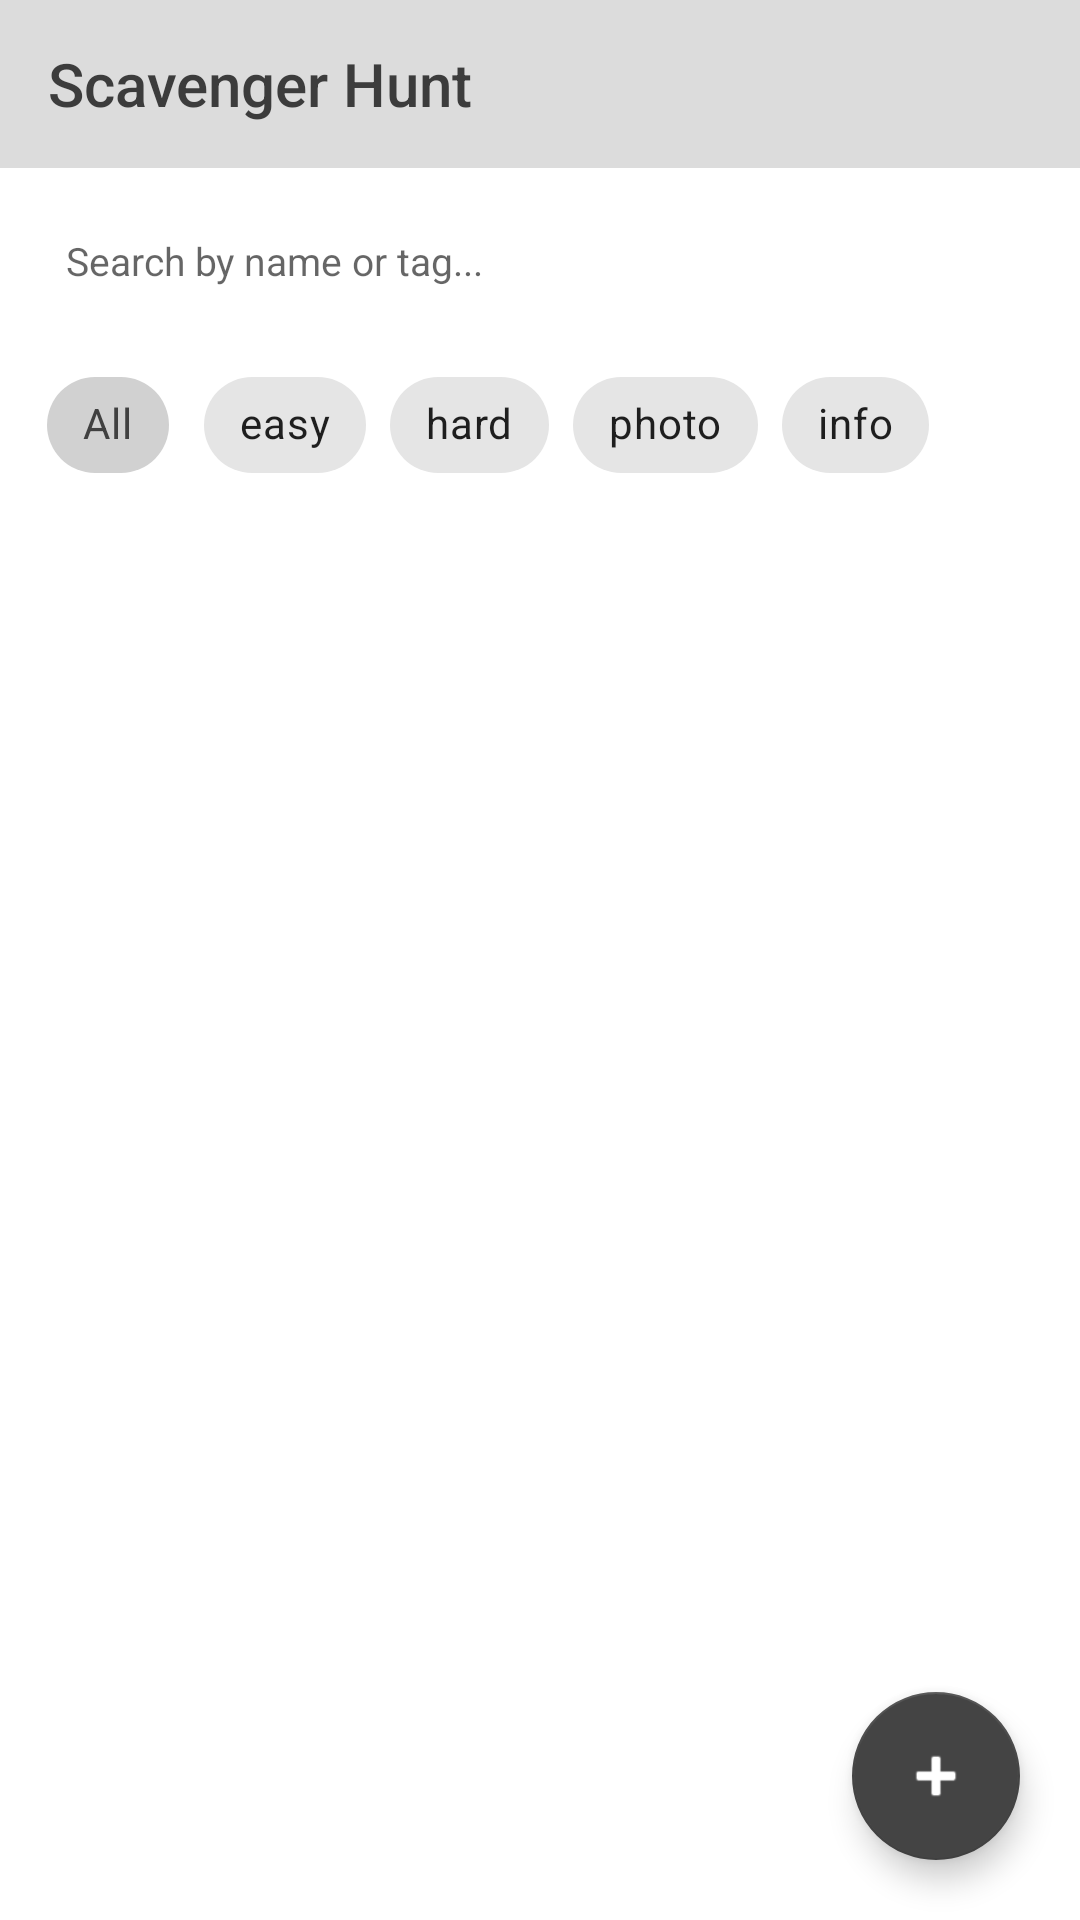

Icons on this 1080 × 1920 Android screen, each with the point to tap as point (x, y):
Add point: point (936, 1776)
